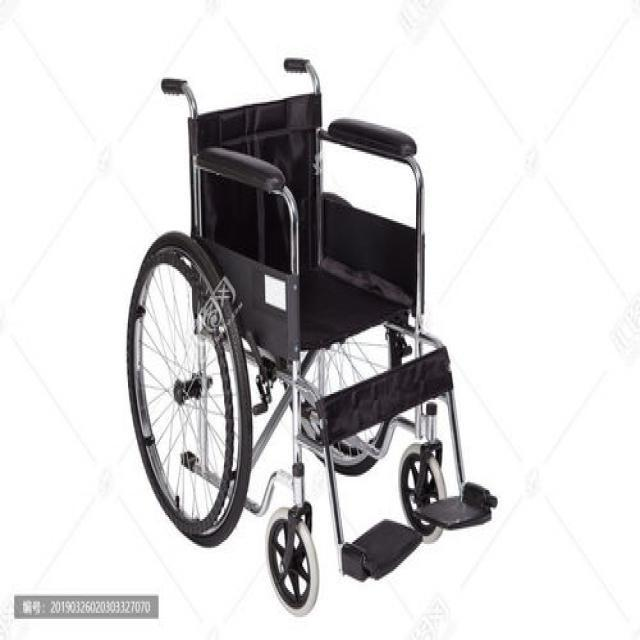wheelchair: (126, 54, 514, 619)
